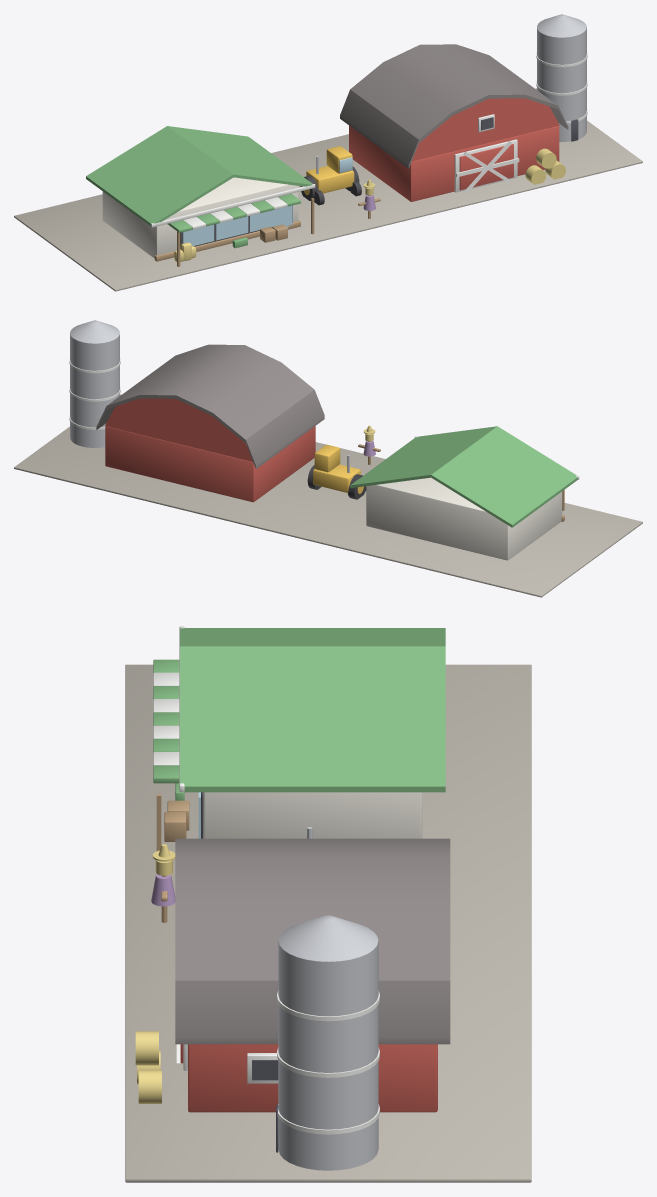
File: kompleks_tani.fbx
The picture shows the model from 3 angles, top to bottom: view 1: azimuth 30°, elevation 25°; view 2: azimuth 150°, elevation 25°; view 3: azimuth 270°, elevation 25°; orthographic projection. The views are drawn at different scales.
Visible parts, largest first — view 1: TaFloor, TaRoof, TaGreen, TaRed, TaMetal, TaWall, TaWhite, TaGlass, TaWood, TaHay, TaYellow, TaDark (+1 smaller); view 2: TaFloor, TaRed, TaRoof, TaGreen, TaWall, TaMetal, TaYellow, TaWhite; view 3: TaFloor, TaGreen, TaRoof, TaMetal, TaWall, TaRed, TaWhite, TaHay, TaWood, TaDark.
Part boxes in pixels (box(x1,y1,x2,y2)): TaFloor: box(14, 88, 642, 291); TaRoof: box(340, 44, 568, 168); TaGreen: box(86, 126, 312, 248); TaRed: box(349, 98, 559, 201); TaMetal: box(316, 14, 586, 173); TaWall: box(102, 177, 298, 258); TaWhite: box(151, 52, 587, 229); TaGlass: box(183, 157, 352, 245); TaWood: box(154, 195, 380, 266); TaHay: box(174, 148, 565, 261); TaYellow: box(304, 146, 354, 195); TaDark: box(180, 117, 578, 248); TaFloor: box(14, 394, 642, 597); TaRed: box(105, 398, 315, 502); TaRoof: box(96, 344, 324, 468); TaGreen: box(350, 426, 577, 527); TaWall: box(366, 477, 562, 560); TaMetal: box(70, 320, 349, 472); TaYellow: box(313, 444, 363, 493); TaWhite: box(69, 358, 579, 479); TaFloor: box(125, 664, 531, 1182); TaGreen: box(153, 628, 445, 800); TaRoof: box(175, 838, 450, 1044); TaMetal: box(278, 827, 378, 1170); TaWall: box(203, 792, 422, 838); TaRed: box(180, 1044, 437, 1112); TaWhite: box(153, 626, 379, 1134); TaHay: box(135, 844, 175, 1103); TaWood: box(156, 794, 189, 922); TaDark: box(201, 792, 278, 1152).
Bounding box in the file's own units: 78 × 16.78 × 26.
